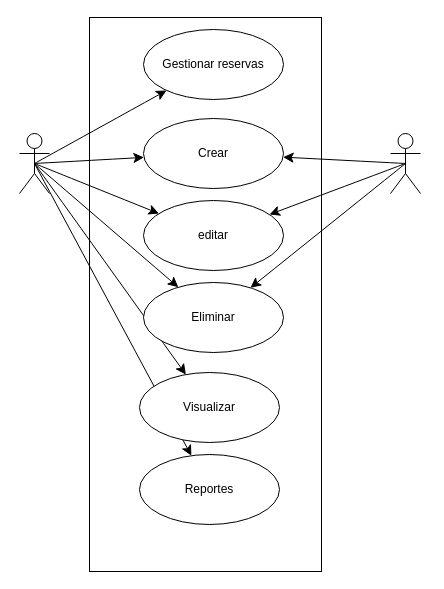
Some shapes in this 444 by 589 pixel diagram are drawn without their labels. The shapes that lost their labels are listed below. From the top down, each one's centre as x and y in pixels, then its label:
the point at 34,163: Admin
the point at 405,163: Sistema
